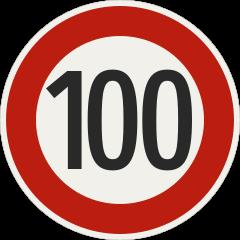Speed Limit -100-: (34, 60, 207, 186)
